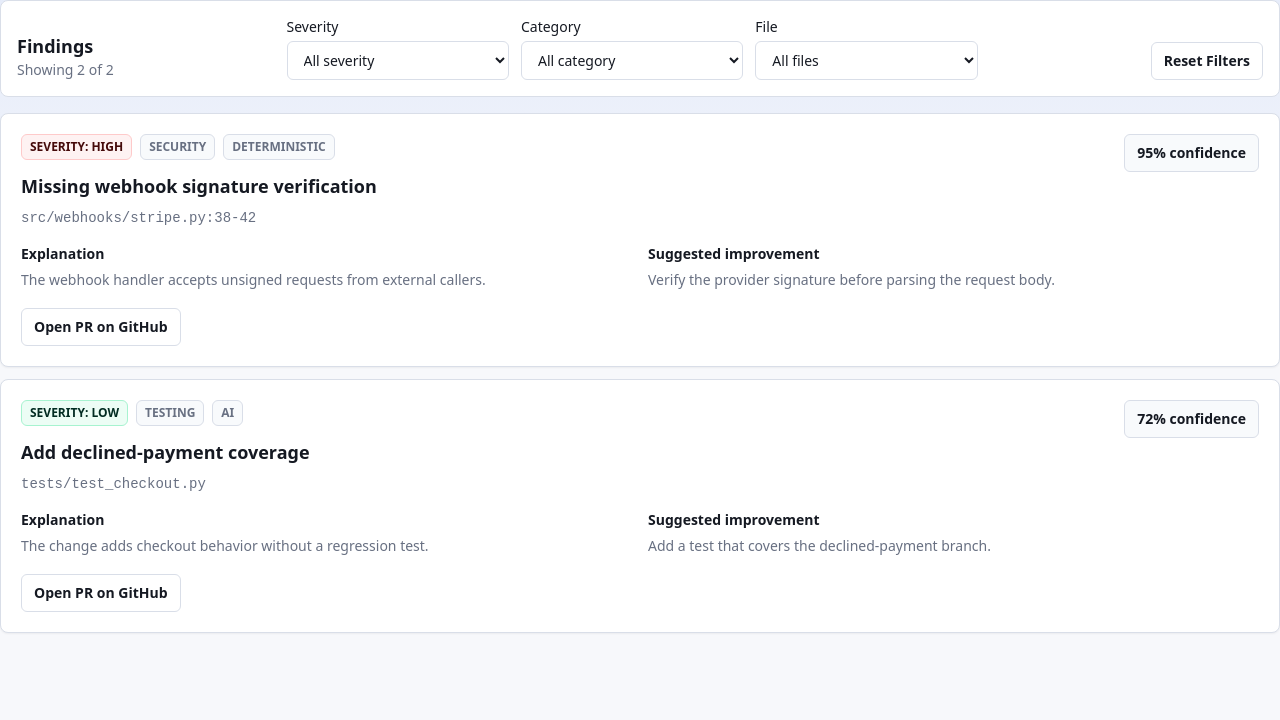
Test: FindingsList › filters findings by severity without refetching
This screenshot has width=1280, height=720.
expect the text "Showing 2 of 2" is shown: met, box [17,60,114,80]
Select "High" in the dropdown labelled "Severity": point(398, 60) [287,41,509,80]
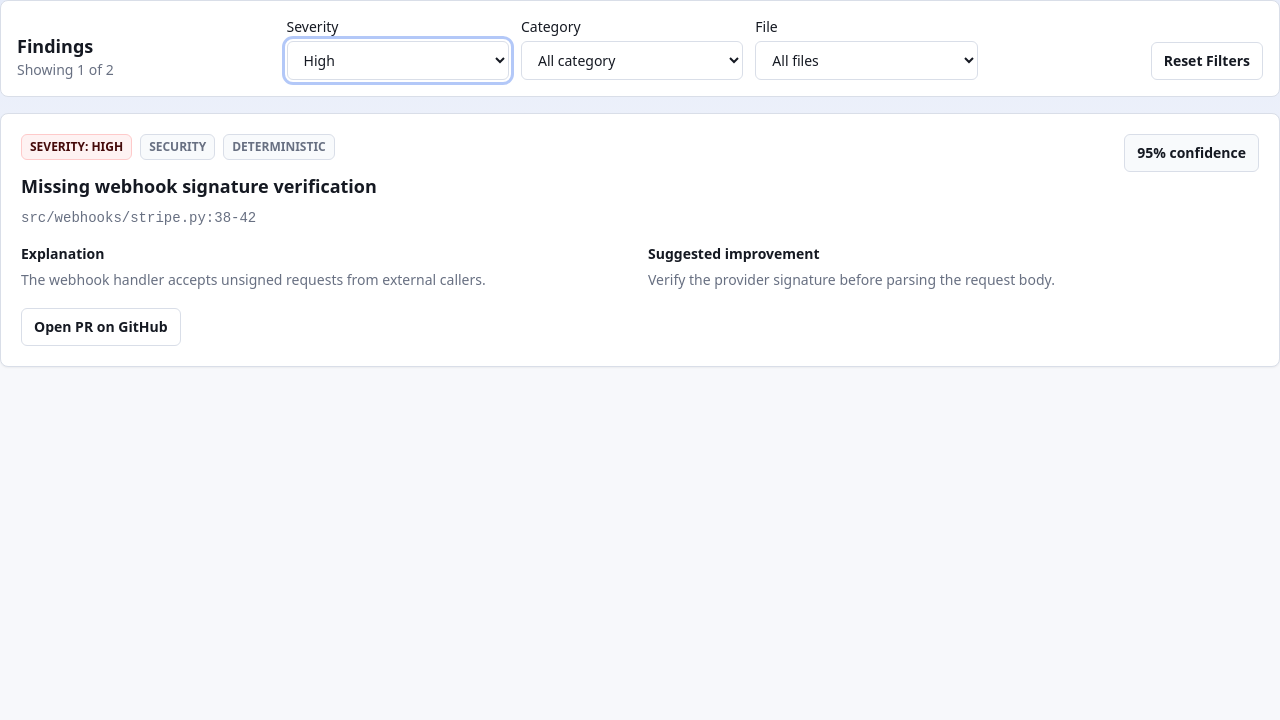
expect the heading "Missing webhook signature verification" is shown: met, box [21,172,377,200]
expect the text "Showing 1 of 2" is shown: met, box [17,60,114,80]
expect the heading "Add declined-payment coverage" is gone: met
